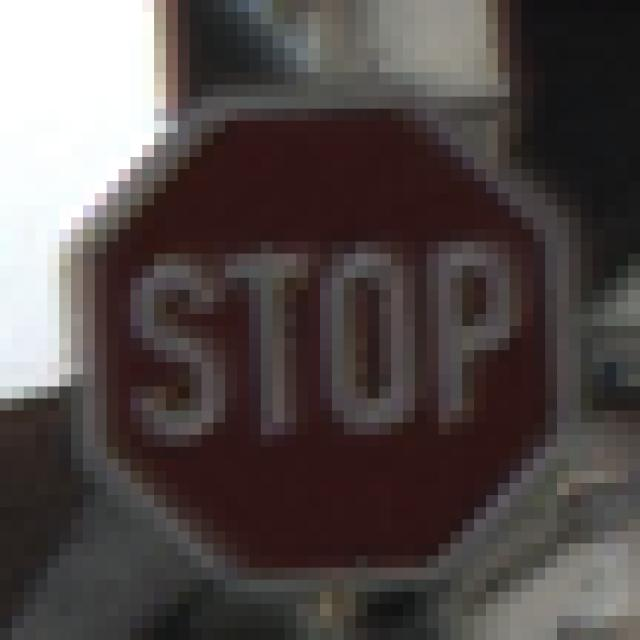STOP: (60, 62, 570, 569)
